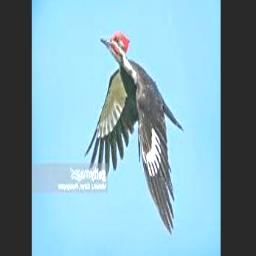Woodpecker: (84, 32, 184, 235)
